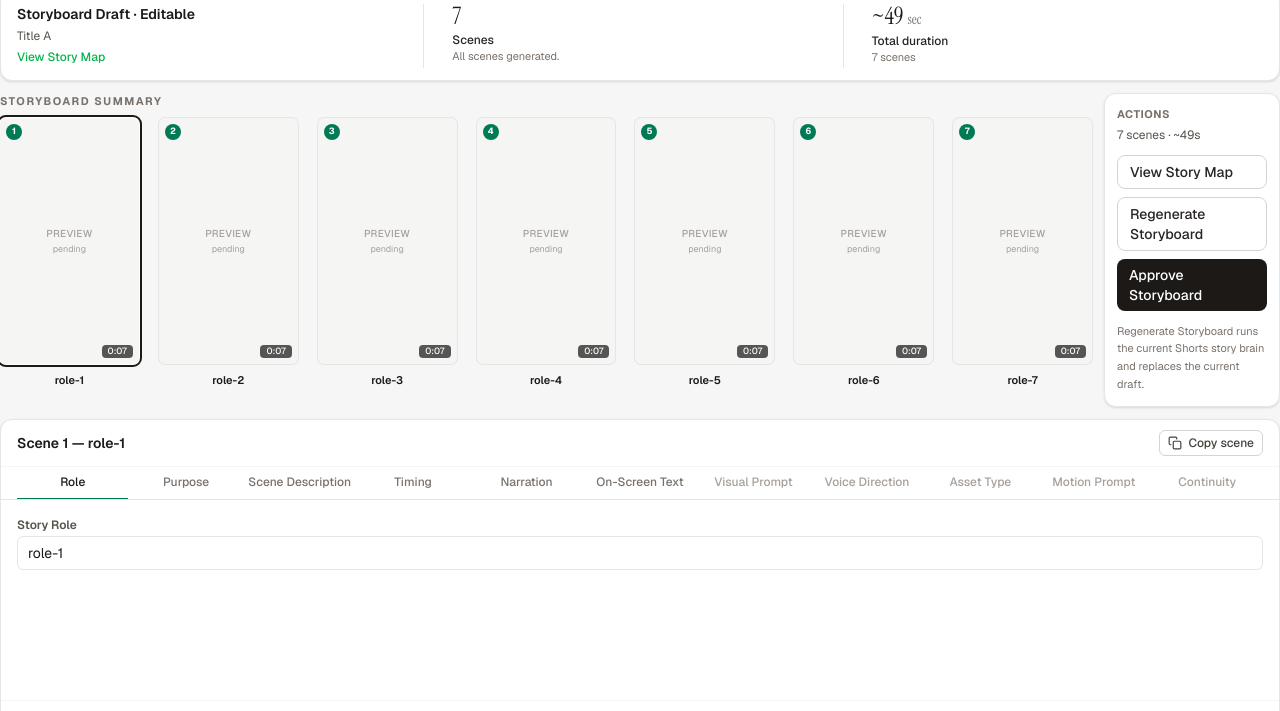
it: storyboard workspace UI › preserves the active field tab across Next Scene
Click the tab "Narration".
click(527, 484)  # box x1=471 y1=467 x2=582 y2=500
(page scrolled)
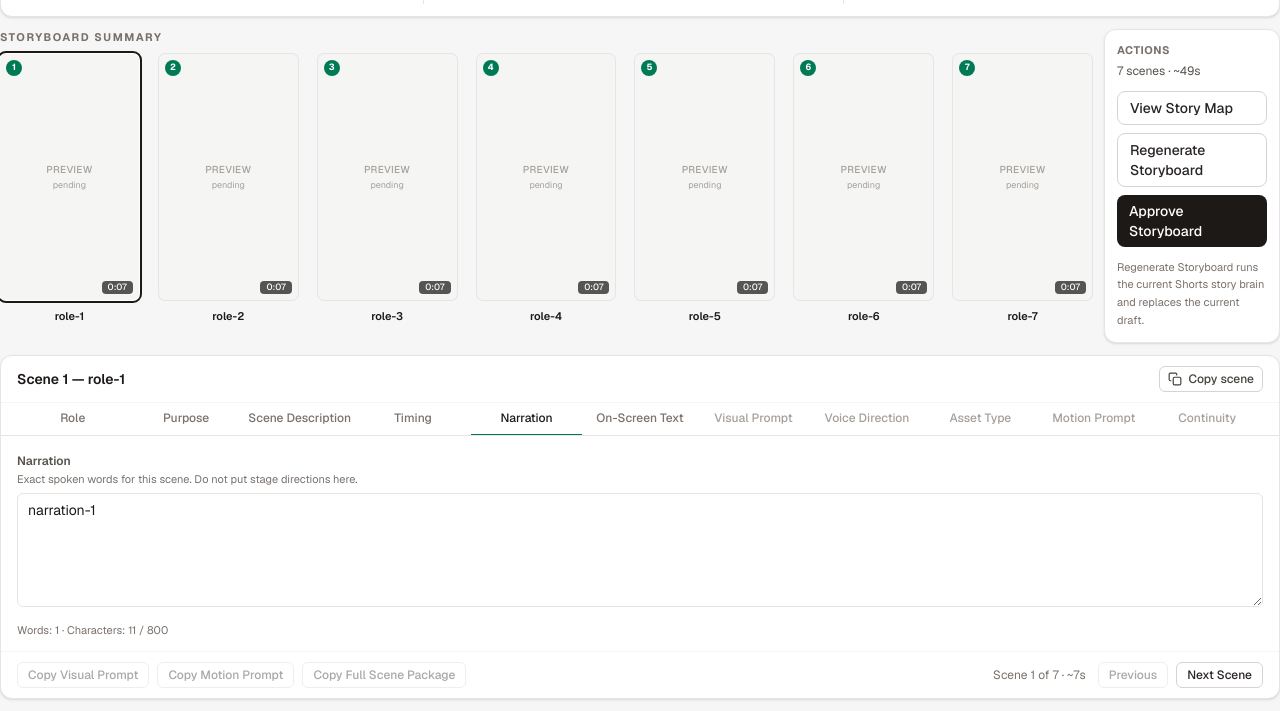
Expected: the text box holds "narration-1", x1=17 y1=493 x2=1263 y2=607
Click the button "Next Scene".
click(1220, 675)  # box x1=1176 y1=662 x2=1263 y2=688
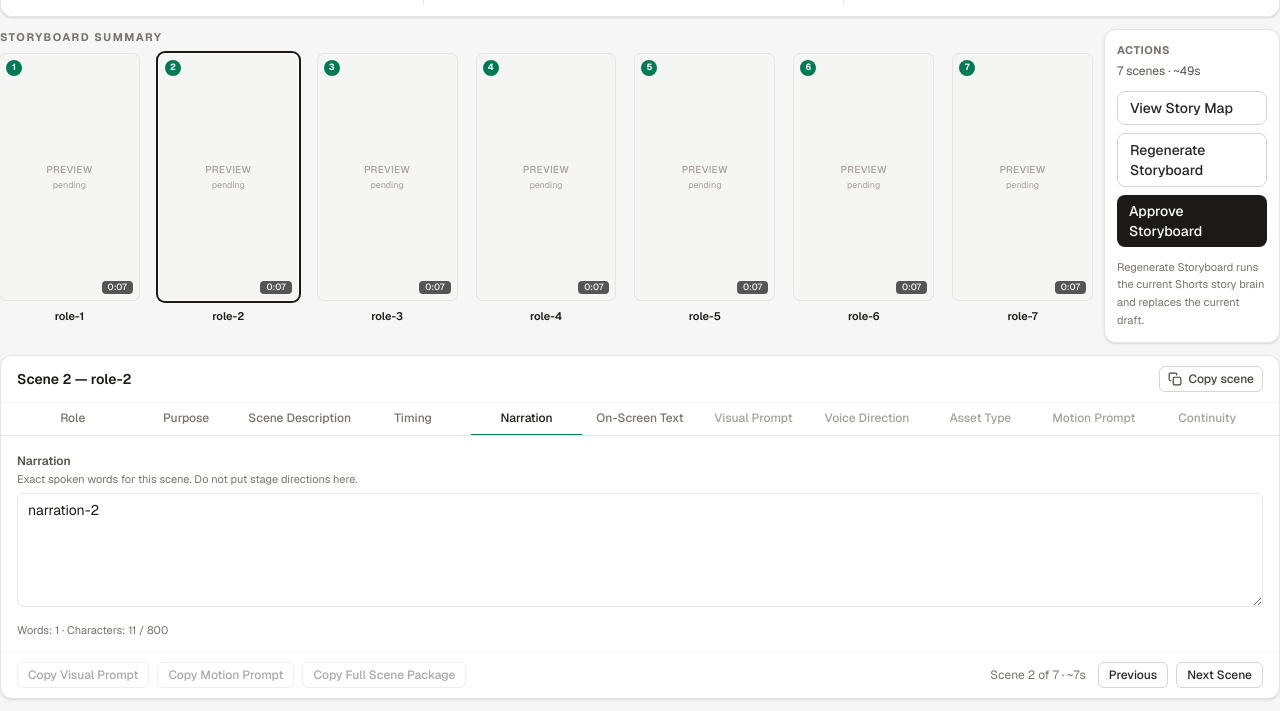
Expected: the text "Scene 2 — role-2" is shown, x1=17 y1=369 x2=132 y2=389
Expected: the text box holds "narration-2", x1=17 y1=493 x2=1263 y2=607
